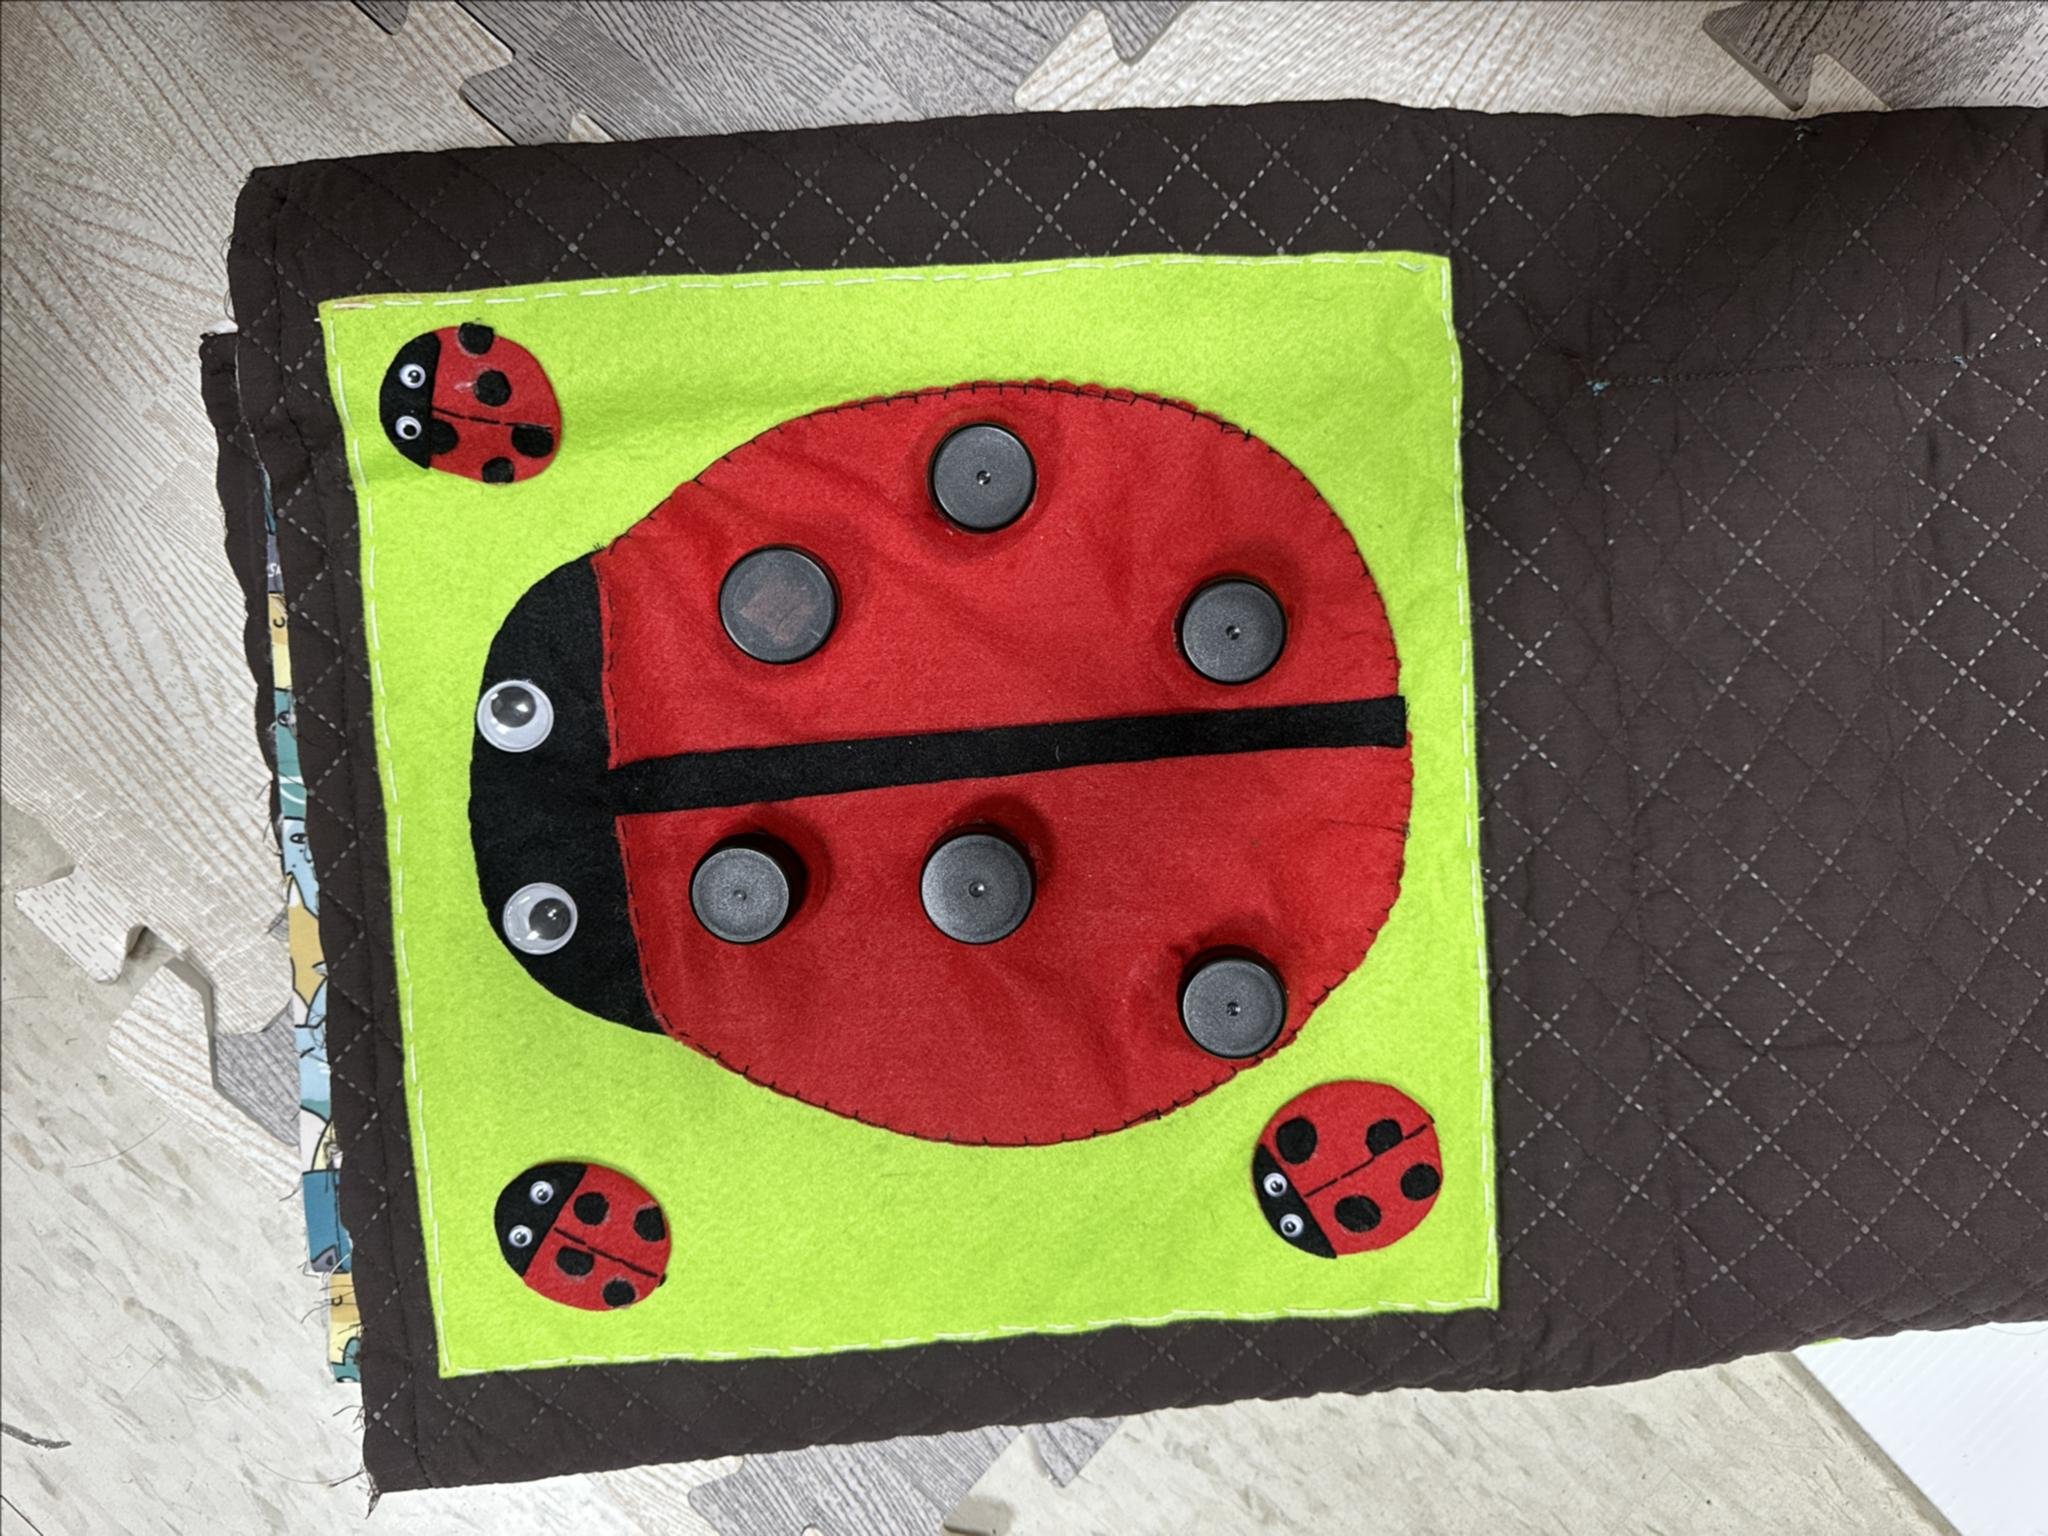cap_ok: (1142, 915, 1309, 1084), (895, 803, 1055, 971), (1143, 557, 1306, 695), (668, 812, 821, 954), (701, 529, 847, 673), (898, 416, 1042, 553)
